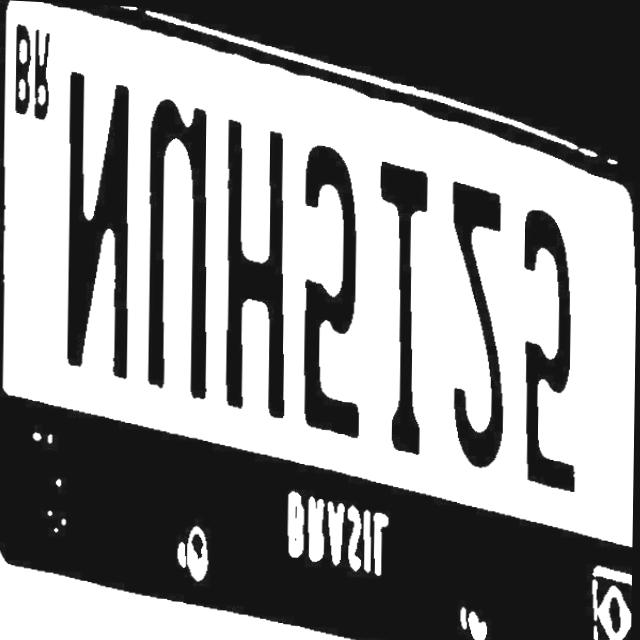2: (442, 182, 523, 488)
5: (297, 150, 374, 457), (521, 214, 591, 504)
h: (216, 125, 296, 434)
i: (373, 164, 442, 472)
n: (60, 62, 142, 392)
u: (138, 93, 219, 416)
